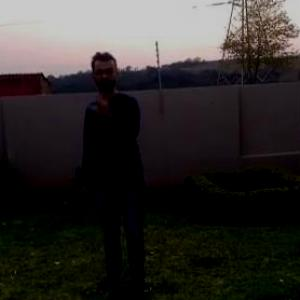land_hand: (86, 85, 116, 123)
